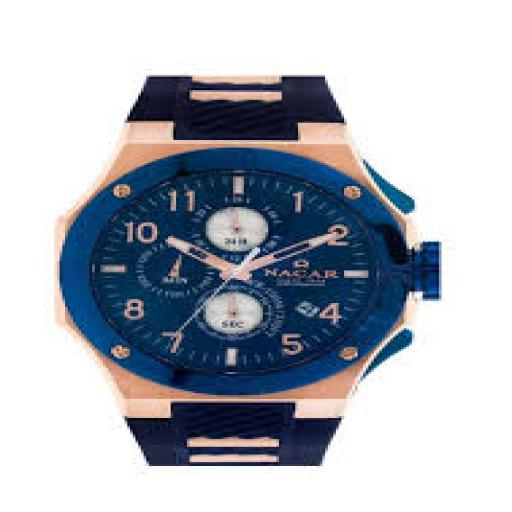KolSaati: (39, 39, 450, 448)
